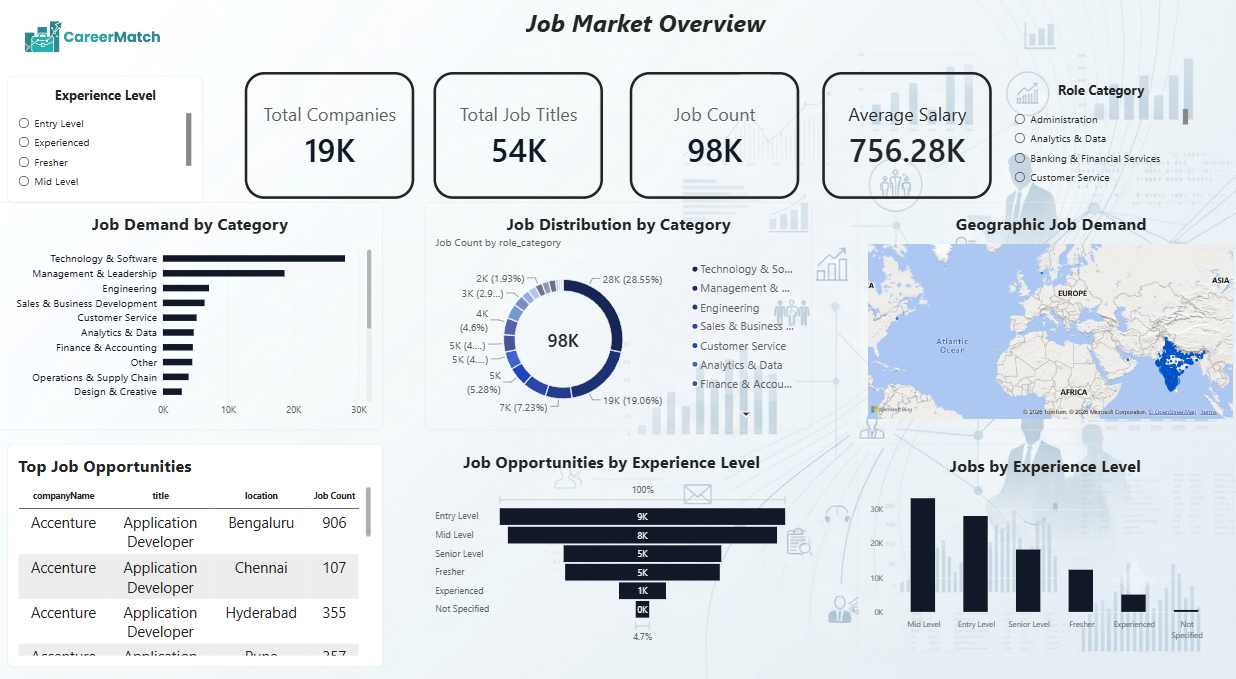

Layout of this report page (visuals, bound fields, positions):
{"tool":"powerbi","page":{"name":"Job Market Overview","canvas":[1920,1080],"ordinal":1},"visuals":[{"type":"cardVisual","fields":{"Data":["DimJob.Job Count"]},"box":[975.4,123.1,260.6,195.4],"z":0},{"type":"cardVisual","fields":{"Data":["DimJob.Total Job Titles"]},"box":[673.2,123.1,260.6,195.4],"z":1000},{"type":"cardVisual","fields":{"Data":["DimJob.Total Companies"]},"box":[381.8,123.1,260.6,195.4],"z":2000},{"type":"clusteredBarChart","title":"Job Demand by Category","fields":{"Y":["DimJob.Job Count"],"Category":["career_match vw_job_market.role_category"]},"box":[0,323.9,595.4,351.1],"z":3000},{"type":"donutChart","title":"Job Distribution by Category","fields":{"Y":["DimJob.Job Count"],"Category":["career_match vw_job_market.role_category"]},"box":[660.5,323.9,595.4,351.1],"z":4000},{"type":"map","title":"Geographic Job Demand","fields":{"Category":["career_match vw_job_market.location"],"Size":["DimJob.Job Count"]},"box":[1324.7,323.9,595.4,351.1],"z":5000},{"type":"columnChart","title":"Jobs by Experience Level","fields":{"Y":["DimJob.Job Count"],"Category":["career_match vw_job_market.Experience Group"]},"box":[1324.7,696.7,577.3,320.3],"z":6000},{"type":"listSlicer","title":"Experience Level","fields":{"Values":["career_match vw_job_market.Experience Group"]},"box":[18.1,128.5,300.4,195.4],"z":7000},{"type":"listSlicer","title":"Role Category","fields":{"Values":["career_match vw_fresher_opportunities.role_category"]},"box":[1550,124,300.4,190],"z":8000},{"type":"tableEx","title":"Top Job Opportunities","fields":{"Values":["career_match vw_job_market.companyName","career_match vw_job_market.title","career_match vw_job_market.location","DimJob.Job Count"]},"box":[18.1,696.7,577.3,342],"z":9000},{"type":"funnel","title":"Job Opportunities by Experience Level","fields":{"Y":["DimJob.Total Companies"],"Category":["career_match vw_job_market.Experience Group"]},"box":[660.5,689.5,575.5,327.5],"z":10000},{"type":"image","box":[0,0,296.8,137.5],"z":11000},{"type":"textbox","box":[816.2,21.7,376.4,72.4],"z":12000},{"type":"cardVisual","fields":{"Data":["DimJob.Average Salary"]},"box":[1270.4,123.1,260.6,195.4],"z":13000}]}

Visuals, with their boxes in screenshot pixels (x1, y1, x2, y2), scaled from the page's 1920x1080 canvas onto the 1236x679 screenshot:
cardVisual - DimJob.Job Count: <bbox>628, 77, 796, 200</bbox>
cardVisual - DimJob.Total Job Titles: <bbox>433, 77, 601, 200</bbox>
cardVisual - DimJob.Total Companies: <bbox>246, 77, 414, 200</bbox>
"Job Demand by Category" clusteredBarChart: <bbox>0, 204, 383, 424</bbox>
"Job Distribution by Category" donutChart: <bbox>425, 204, 808, 424</bbox>
"Geographic Job Demand" map: <bbox>853, 204, 1235, 424</bbox>
"Jobs by Experience Level" columnChart: <bbox>853, 438, 1224, 639</bbox>
"Experience Level" listSlicer: <bbox>12, 81, 205, 204</bbox>
"Role Category" listSlicer: <bbox>998, 78, 1191, 197</bbox>
"Top Job Opportunities" tableEx: <bbox>12, 438, 383, 653</bbox>
"Job Opportunities by Experience Level" funnel: <bbox>425, 433, 796, 639</bbox>
image: <bbox>0, 0, 191, 86</bbox>
textbox: <bbox>525, 14, 768, 59</bbox>
cardVisual - DimJob.Average Salary: <bbox>818, 77, 986, 200</bbox>
